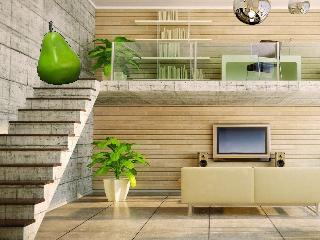pear: (35, 19, 88, 86)
